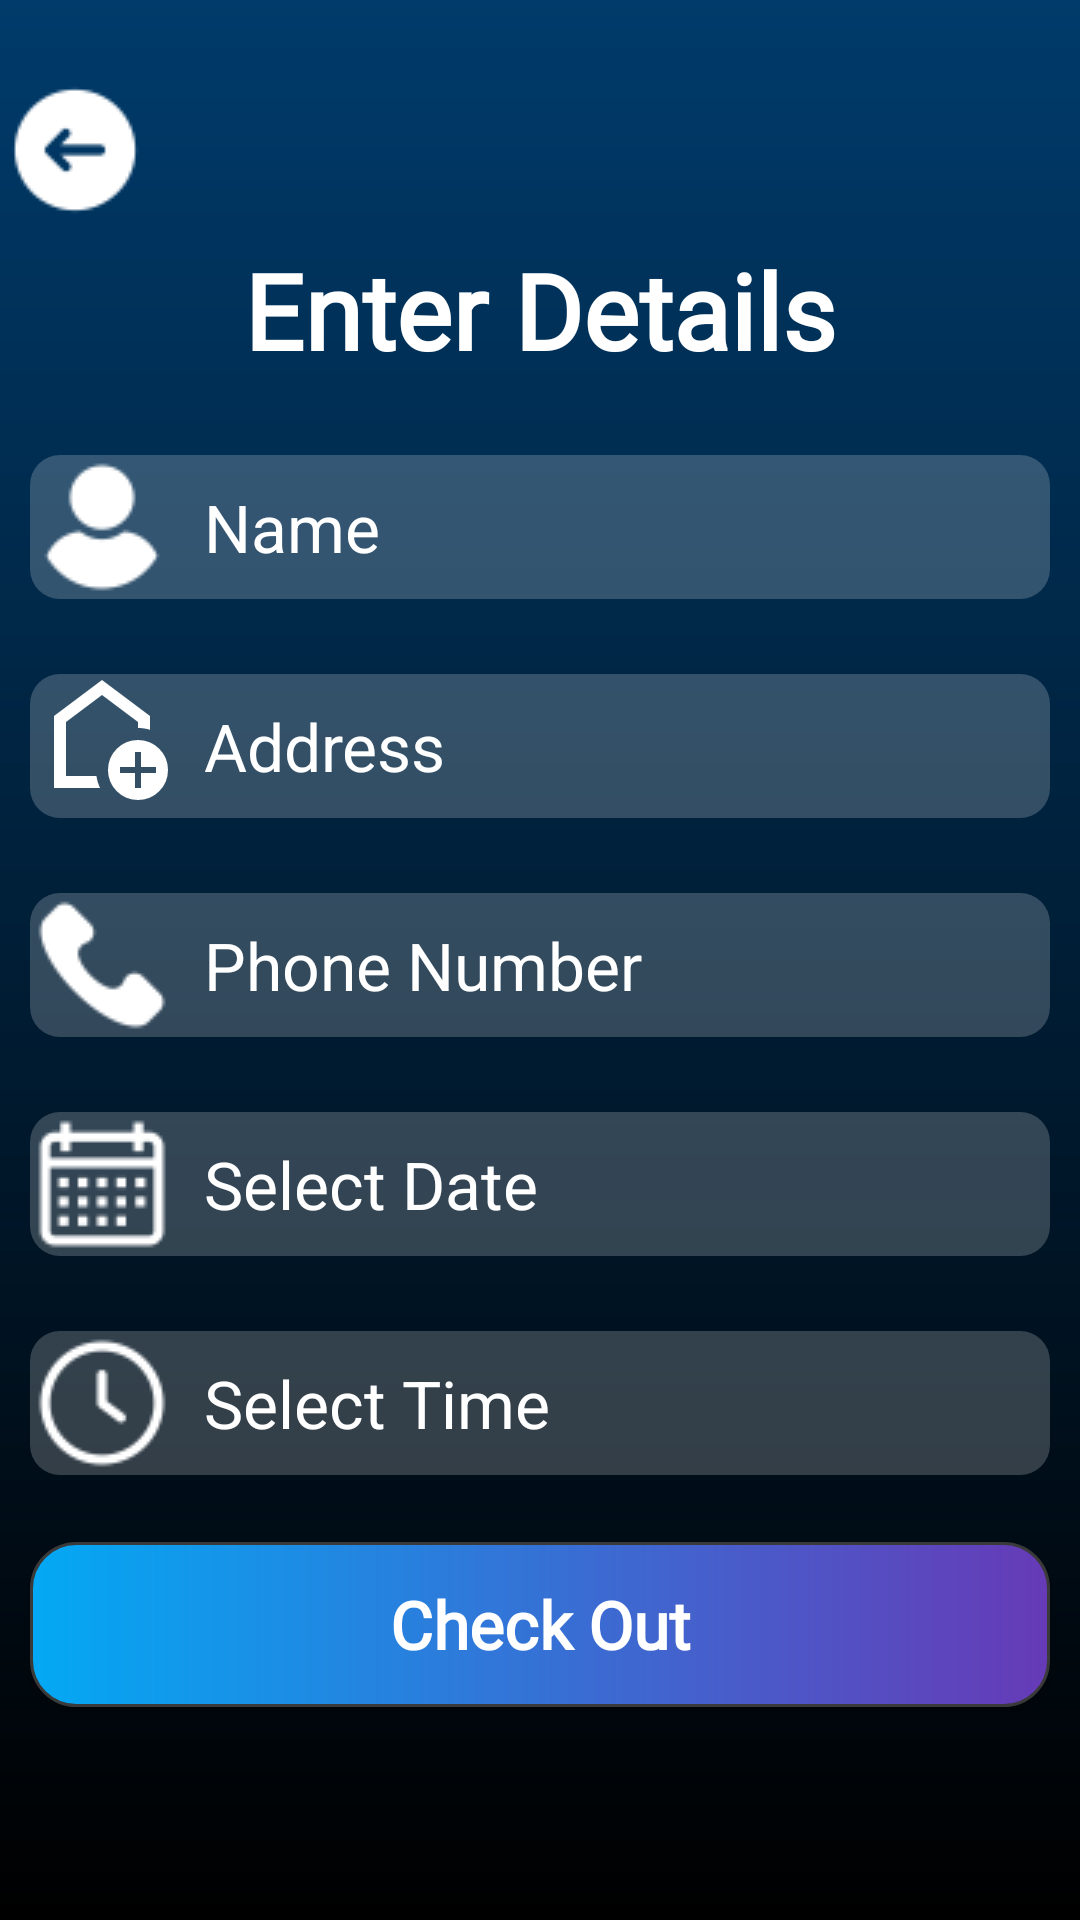

Icons on this 1080 x 1920 Android screen, each with its box as [left=x1, top=y1, right=x2, bottom=y2]:
arrow: [left=14, top=89, right=136, bottom=211]
